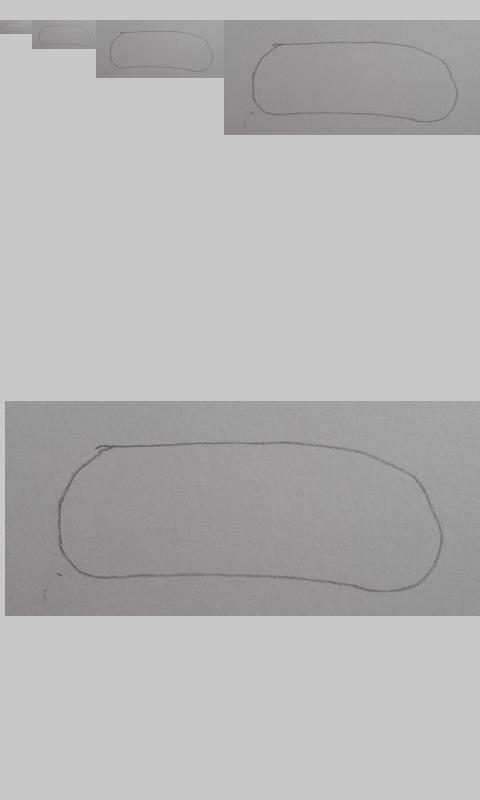chip: (56, 440, 445, 594), (250, 40, 458, 123), (109, 30, 213, 73), (38, 24, 91, 46), (1, 22, 31, 33)
